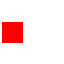square: (2, 22, 22, 42)
